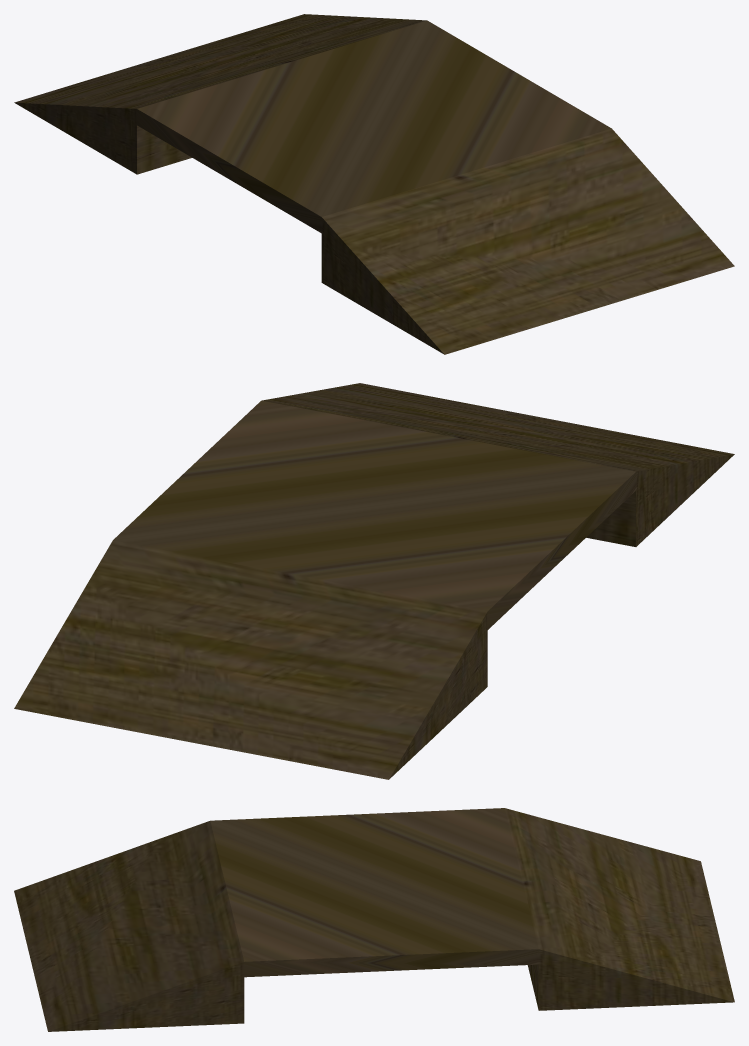
The model's file is Platforms_1.obj.
The picture shows the model from 3 angles, top to bottom: view 1: azimuth 30°, elevation 25°; view 2: azimuth 150°, elevation 25°; view 3: azimuth 270°, elevation 25°; orthographic projection. The views are drawn at different scales.
Visible parts, largest first — view 1: Platforms; view 2: Platforms; view 3: Platforms.
Boxes of the visible parts, x1,y1,x2,y2 form: Platforms: (14, 14, 734, 354); Platforms: (14, 383, 734, 779); Platforms: (14, 808, 734, 1031).
Bounding box in the file's own units: 44.52 × 7.5 × 79.45.
